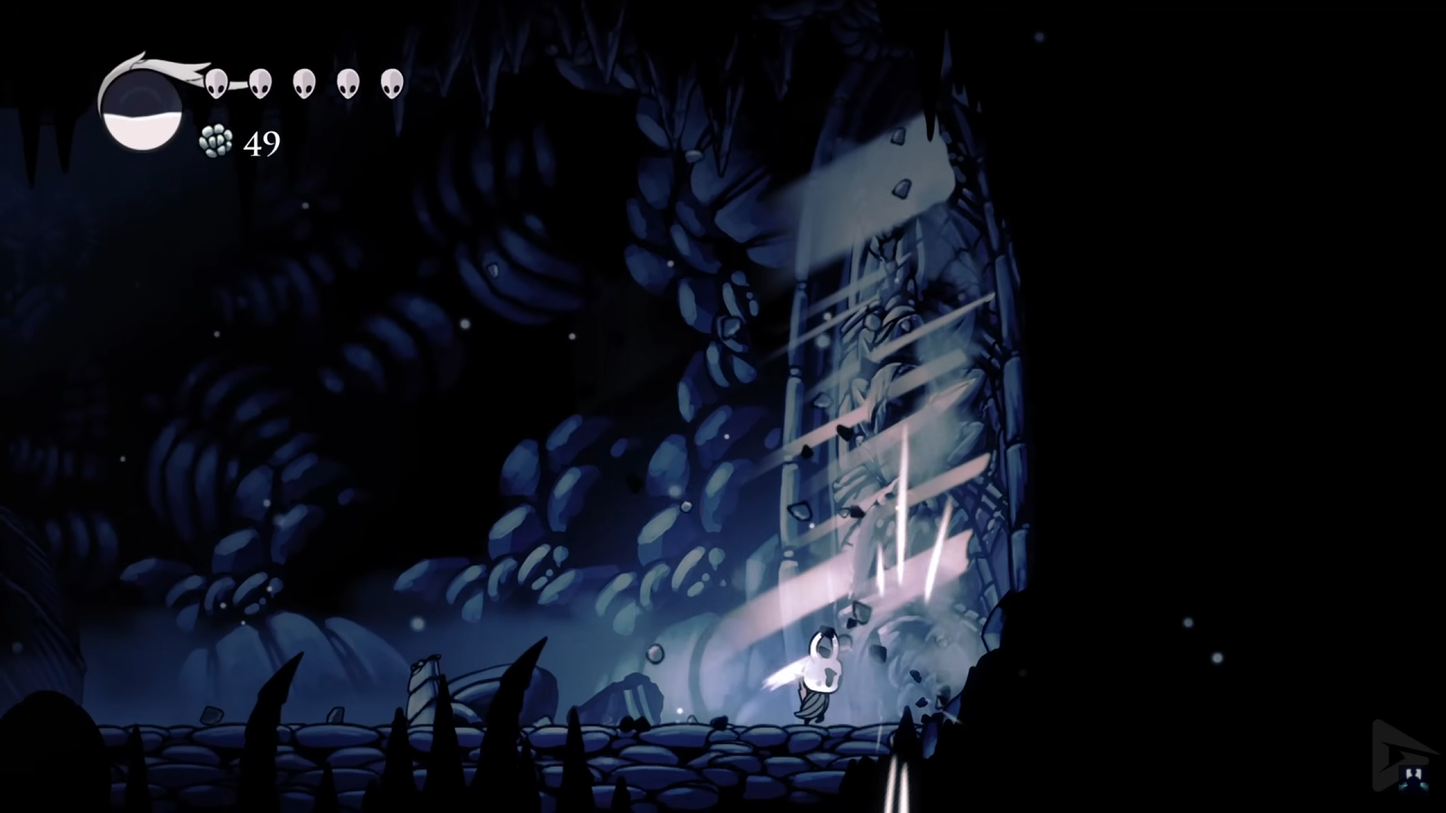HK: (786, 626, 847, 731)
